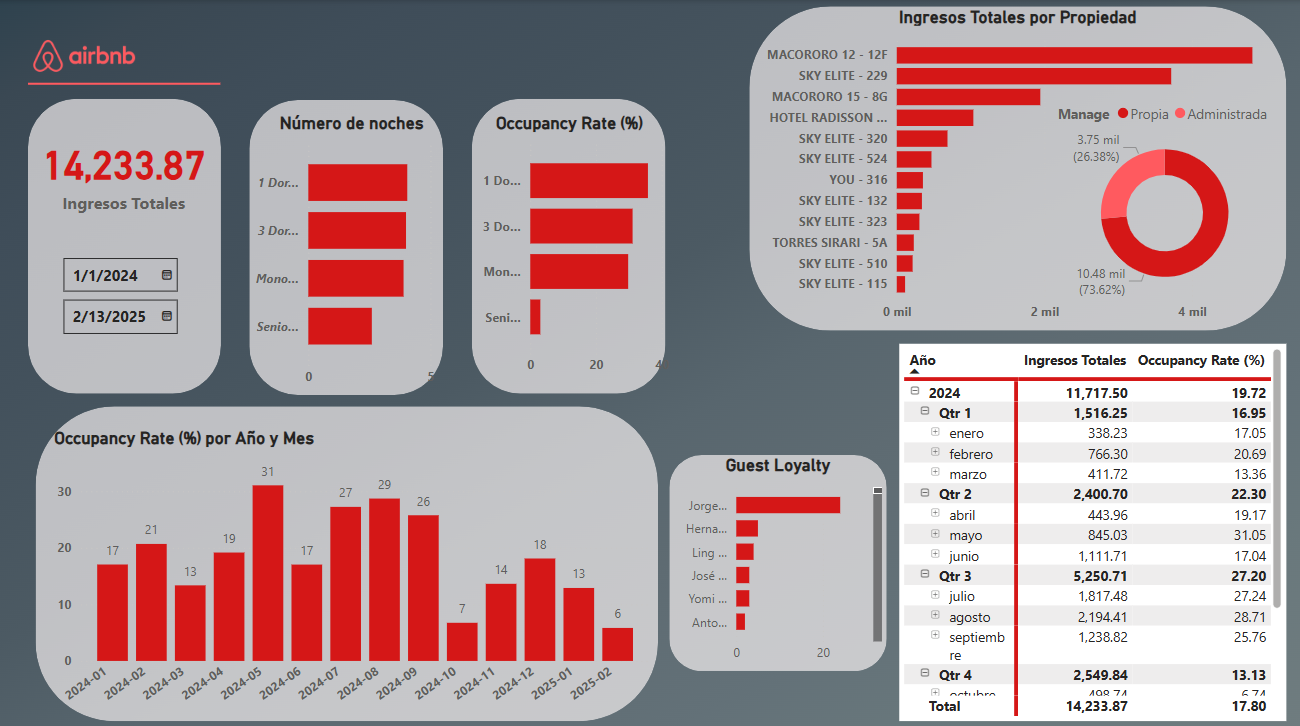

Layout of this report page (visuals, bound fields, positions):
{"tool":"powerbi","page":{"name":"General Anlysis OR%","canvas":[1280,720],"ordinal":1},"visuals":[{"type":"image","box":[10,5,150,100],"z":0},{"type":"shape","box":[29.6,97.1,189.4,289.5],"z":1000},{"type":"shape","box":[29.4,67.5,189,29.4],"z":2000},{"type":"card","fields":{"Values":["cleaned_DataFrame.Ingresos Totales"]},"box":[0,82.2,246.6,146],"z":3000},{"type":"slicer","fields":{"Values":["DateTable.Date"]},"box":[51.5,265,142.3,94.5],"z":4000},{"type":"shape","box":[36.8,398.8,611,309.2],"z":5000},{"type":"shape","box":[658.9,446.6,213.5,212.3],"z":6000},{"type":"shape","box":[737.4,5.6,527.3,318.6],"z":7000},{"type":"clusteredBarChart","fields":{"Y":["cleaned_DataFrame.Ingresos Totales"],"Category":["cleaned_DataFrame.Propiedad"]},"box":[737.4,5.6,527.3,318.6],"z":8000},{"type":"shape","box":[246.6,98.2,190.2,289.6],"z":9000},{"type":"shape","box":[465,96.9,190.2,289.6],"z":10000},{"type":"clusteredBarChart","title":"Occupancy Rate (%)","fields":{"Y":["MeasuresTable.Occupancy Type Rate (%)"],"Category":["cleaned_DataFrame.Property Type"]},"box":[457.7,110.4,206.1,266.3],"z":11000},{"type":"donutChart","fields":{"Y":["cleaned_DataFrame.Ingresos Totales"],"Category":["cleaned_DataFrame.Management"]},"box":[1011,90.8,268.7,207.4],"z":12000},{"type":"clusteredBarChart","title":"Número de noches","fields":{"Category":["cleaned_DataFrame.Property Type"],"Y":["cleaned_DataFrame.Número de noches"]},"box":[236.8,110.4,220.9,277.3],"z":13000},{"type":"clusteredColumnChart","title":"Occupancy Rate (%) por Año y Mes","fields":{"Y":["MeasuresTable.Occupancy Prop Rate (%)"],"Category":["DateTable.YearMonth"]},"box":[50.3,419.6,593.9,288.3],"z":14000},{"type":"pivotTable","fields":{"Rows":["DateTable.Date.Variación.Jerarquía de fechas.Año","DateTable.Date.Variación.Jerarquía de fechas.Trimestre","DateTable.Date.Variación.Jerarquía de fechas.Mes","DateTable.Date.Variación.Jerarquía de fechas.Día"],"Values":["cleaned_DataFrame.Ingresos Totales","cleaned_BOB_df.Ingresos Totales BOB","MeasuresTable.Occupancy Prop Rate (%)"]},"box":[884.7,337.4,380.4,370.6],"z":15000},{"type":"clusteredBarChart","title":"Guest Loyalty","fields":{"Y":["customer_loyalty_demographics.Total Bookings"],"Category":["customer_loyalty_demographics.Guest Identifier"]},"box":[658.9,446.6,213.5,212.3],"z":16000},{"type":"card","fields":{"Values":["cleaned_BOB_df.Ingresos Totales BOB"]},"box":[0,176.7,246.6,101.8],"z":16001}]}

Visuals, with their boxes in screenshot pixels (x1, y1, x2, y2), scaled from the page's 1280x720 canvas onto the 1300x726 screenshot:
image: <bbox>10, 5, 162, 106</bbox>
shape: <bbox>30, 98, 222, 390</bbox>
shape: <bbox>30, 68, 222, 98</bbox>
card - cleaned_DataFrame.Ingresos Totales: <bbox>0, 83, 250, 230</bbox>
slicer - DateTable.Date: <bbox>52, 267, 197, 362</bbox>
shape: <bbox>37, 402, 658, 714</bbox>
shape: <bbox>669, 450, 886, 664</bbox>
shape: <bbox>749, 6, 1284, 327</bbox>
clusteredBarChart - cleaned_DataFrame.Ingresos Totales x cleaned_DataFrame.Propiedad: <bbox>749, 6, 1284, 327</bbox>
shape: <bbox>250, 99, 444, 391</bbox>
shape: <bbox>472, 98, 665, 390</bbox>
"Occupancy Rate (%)" clusteredBarChart: <bbox>465, 111, 674, 380</bbox>
donutChart - cleaned_DataFrame.Ingresos Totales x cleaned_DataFrame.Management: <bbox>1027, 92, 1299, 301</bbox>
"Número de noches" clusteredBarChart: <bbox>240, 111, 465, 391</bbox>
"Occupancy Rate (%) por Año y Mes" clusteredColumnChart: <bbox>51, 423, 654, 714</bbox>
pivotTable - DateTable.Date.Variación.Jerarquía de fechas.Año x DateTable.Date.Variación.Jerarquía de fechas.Trimestre: <bbox>899, 340, 1285, 714</bbox>
"Guest Loyalty" clusteredBarChart: <bbox>669, 450, 886, 664</bbox>
card - cleaned_BOB_df.Ingresos Totales BOB: <bbox>0, 178, 250, 281</bbox>
